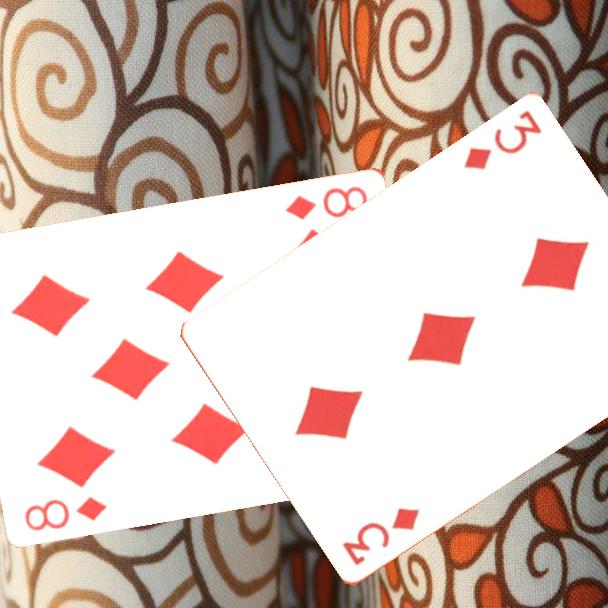d03: (460, 107, 545, 174), (338, 504, 423, 569)
d08: (21, 492, 111, 534), (282, 182, 371, 222)
